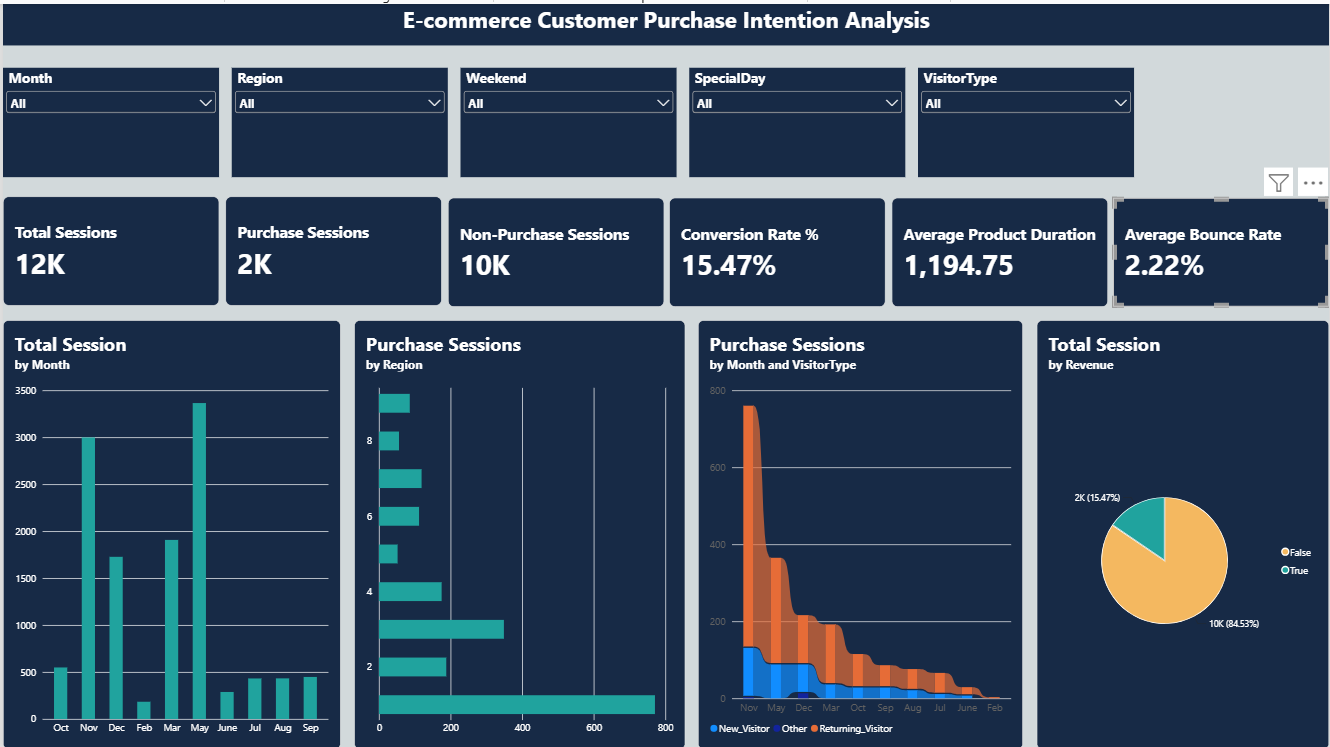

The page's visual inventory and layout, read from the dashboard file:
{"tool":"powerbi","page":{"name":"Page 1","canvas":[1920,1080],"ordinal":0},"visuals":[{"type":"textbox","box":[0,0,1920.4,59.7],"z":0},{"type":"slicer","fields":{"Values":["online_shoppers_intention.Month"]},"box":[0,92.6,312.9,158.5],"z":1000},{"type":"slicer","fields":{"Values":["online_shoppers_intention.Region"]},"box":[331.4,92.6,312.9,158.5],"z":2000},{"type":"slicer","fields":{"Values":["online_shoppers_intention.Weekend"]},"box":[662.8,92.6,312.9,158.5],"z":3000},{"type":"slicer","fields":{"Values":["online_shoppers_intention.SpecialDay"]},"box":[994.2,92.6,312.9,158.5],"z":4000},{"type":"slicer","fields":{"Values":["online_shoppers_intention.VisitorType"]},"box":[1325.6,92.6,312.9,158.5],"z":5000},{"type":"cardVisual","fields":{"Data":["online_shoppers_intention.Total Session"]},"box":[0,278.7,313,158],"z":6000},{"type":"cardVisual","fields":{"Data":["online_shoppers_intention.Purchase Sessions"]},"box":[321.8,278.7,313,158],"z":7000},{"type":"cardVisual","fields":{"Data":["online_shoppers_intention.Non-Purchase Sessions"]},"box":[643.5,280.5,313,158],"z":8000},{"type":"cardVisual","fields":{"Data":["online_shoppers_intention.Conversion Rate %"]},"box":[965.3,280.5,313,158],"z":9000},{"type":"cardVisual","fields":{"Data":["online_shoppers_intention.Average Product Duration"]},"box":[1287,280.5,313,158],"z":10000},{"type":"cardVisual","fields":{"Data":["online_shoppers_intention.Average Bounce Rate"]},"box":[1607,280.5,313,158],"z":11000},{"type":"columnChart","fields":{"Category":["online_shoppers_intention.Month"],"Y":["online_shoppers_intention.Total Session"]},"box":[0,457.8,488.6,622.5],"z":12000},{"type":"clusteredBarChart","fields":{"Category":["online_shoppers_intention.Region"],"Y":["online_shoppers_intention.Purchase Sessions"]},"box":[507.9,457.8,479.6,622.5],"z":13000},{"type":"pieChart","fields":{"Category":["online_shoppers_intention.Revenue"],"Y":["online_shoppers_intention.Total Session"]},"box":[1496.5,457.8,423.5,622.5],"z":14000},{"type":"ribbonChart","fields":{"Category":["online_shoppers_intention.Month"],"Series":["online_shoppers_intention.VisitorType"],"Y":["online_shoppers_intention.Purchase Sessions"]},"box":[1006.8,457.8,470.5,622.5],"z":15000}]}

Visuals, with their boxes in screenshot pixels (x1, y1, x2, y2), scaled from the page's 1920x1080 canvas onto the 1330x747 screenshot:
textbox: 0:0:1329:41
slicer - online_shoppers_intention.Month: 0:64:217:174
slicer - online_shoppers_intention.Region: 230:64:446:174
slicer - online_shoppers_intention.Weekend: 459:64:676:174
slicer - online_shoppers_intention.SpecialDay: 689:64:905:174
slicer - online_shoppers_intention.VisitorType: 918:64:1135:174
cardVisual - online_shoppers_intention.Total Session: 0:193:217:302
cardVisual - online_shoppers_intention.Purchase Sessions: 223:193:440:302
cardVisual - online_shoppers_intention.Non-Purchase Sessions: 446:194:663:303
cardVisual - online_shoppers_intention.Conversion Rate %: 669:194:885:303
cardVisual - online_shoppers_intention.Average Product Duration: 892:194:1108:303
cardVisual - online_shoppers_intention.Average Bounce Rate: 1113:194:1329:303
columnChart - online_shoppers_intention.Month x online_shoppers_intention.Total Session: 0:317:338:746
clusteredBarChart - online_shoppers_intention.Region x online_shoppers_intention.Purchase Sessions: 352:317:684:746
pieChart - online_shoppers_intention.Revenue x online_shoppers_intention.Total Session: 1037:317:1329:746
ribbonChart - online_shoppers_intention.Month x online_shoppers_intention.VisitorType: 697:317:1023:746
